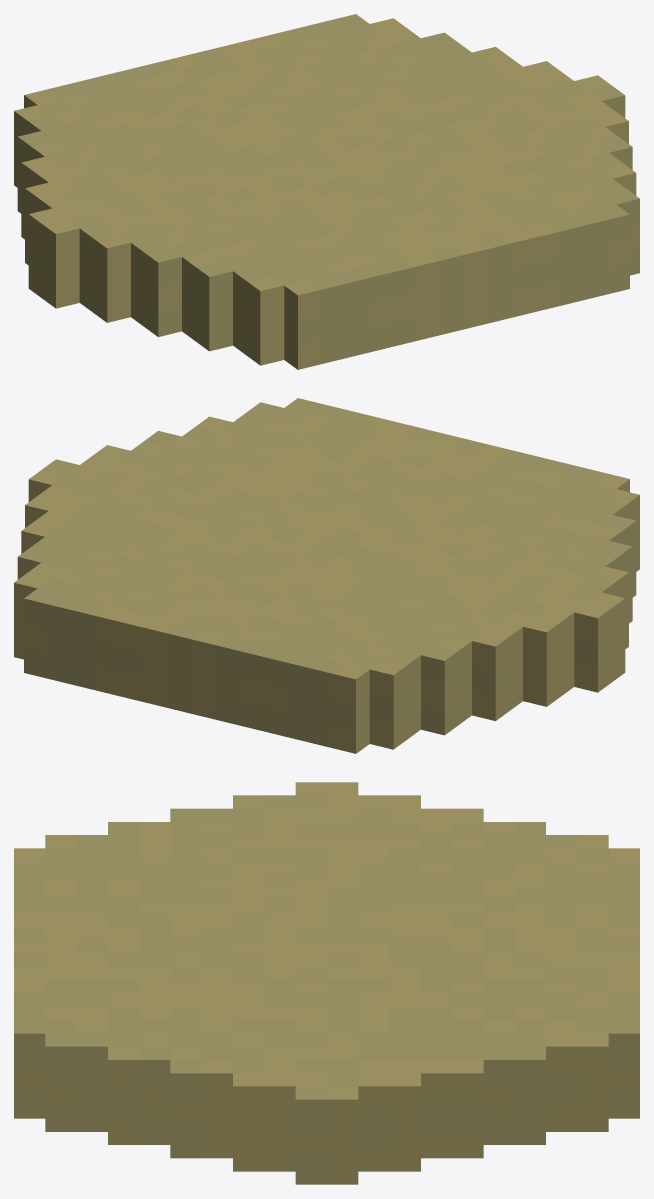
The model's file is overworld-36-sand_3px.obj.
The picture shows the model from 3 angles, top to bottom: view 1: azimuth 30°, elevation 25°; view 2: azimuth 150°, elevation 25°; view 3: azimuth 270°, elevation 25°; orthographic projection. The views are drawn at different scales.
Parts seen in each view (by area): view 1: sand_3px; view 2: sand_3px; view 3: sand_3px.
Boxes of the visible parts, x1,y1,x2,y2 form: sand_3px: [14, 14, 639, 369]; sand_3px: [14, 398, 639, 753]; sand_3px: [14, 782, 639, 1184].
Size of the model in its own units: 2.4 by 0.3 by 2.
1 material, 1 textured.
